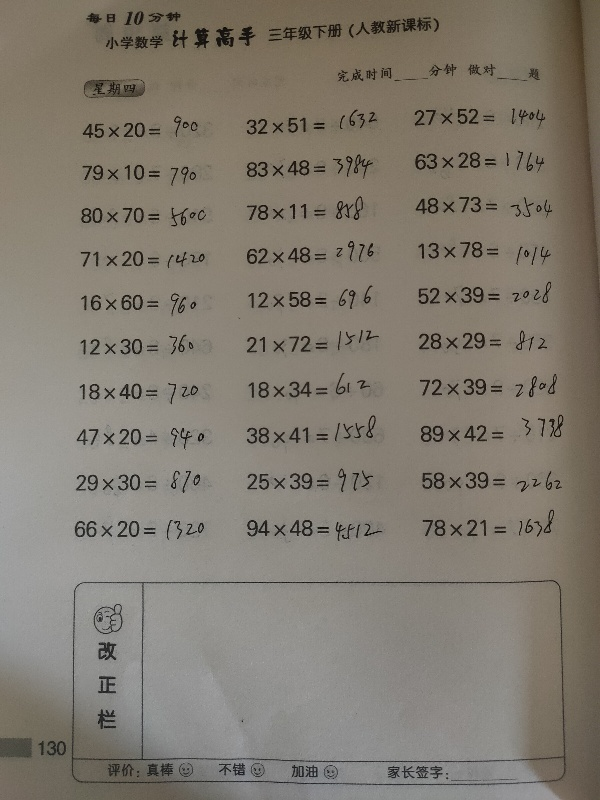equation: (407, 409, 575, 450), (405, 96, 563, 138), (410, 191, 571, 232), (244, 456, 396, 498), (411, 505, 568, 544), (236, 185, 388, 225), (232, 509, 397, 545), (73, 238, 216, 279), (237, 275, 389, 313), (400, 323, 567, 357), (234, 364, 395, 399), (241, 232, 390, 269), (408, 143, 557, 180), (414, 462, 575, 496), (407, 274, 563, 309), (72, 109, 218, 145), (67, 513, 209, 550), (71, 377, 224, 411), (215, 112, 394, 141), (66, 421, 214, 456), (240, 321, 387, 356), (243, 413, 388, 448), (69, 466, 212, 498), (67, 334, 209, 365), (408, 375, 576, 400), (80, 158, 218, 188), (412, 241, 561, 268), (232, 153, 385, 179), (64, 211, 220, 234), (81, 293, 203, 317)
